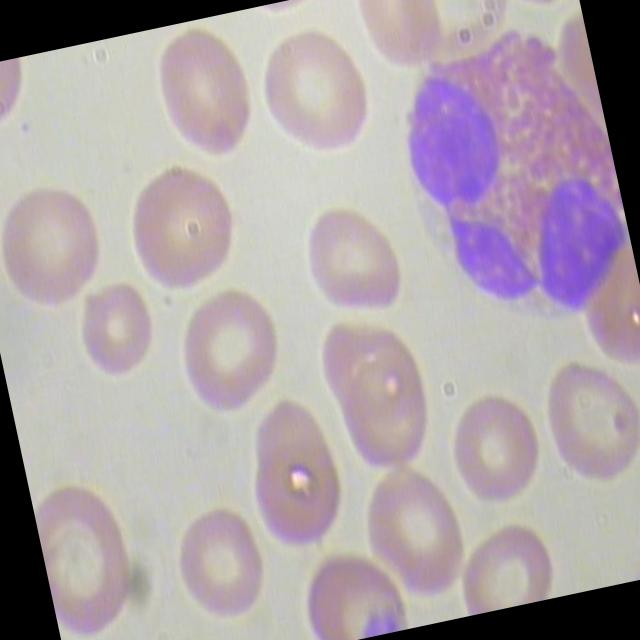RBC: (230, 388, 362, 562), (251, 16, 387, 178), (164, 268, 300, 429), (135, 18, 271, 178), (346, 452, 476, 612), (29, 467, 148, 640), (119, 154, 254, 306), (0, 174, 117, 321), (294, 192, 416, 331), (436, 377, 558, 516), (527, 349, 640, 499), (166, 492, 278, 632), (67, 274, 166, 395), (446, 512, 561, 616)
WBC: (370, 17, 640, 350)
